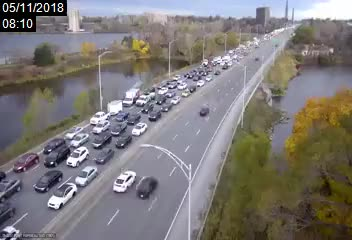congestion: (2, 124, 122, 239), (70, 87, 173, 147), (142, 64, 217, 100), (195, 46, 243, 73)
personal_car: (48, 182, 77, 209), (35, 171, 62, 193), (113, 170, 137, 193), (13, 153, 41, 172), (44, 146, 69, 167), (75, 164, 98, 186), (136, 177, 157, 200), (66, 147, 90, 167), (1, 177, 22, 199), (43, 136, 65, 154), (1, 196, 16, 220), (91, 133, 113, 148), (1, 226, 23, 240), (88, 110, 111, 123), (95, 149, 116, 163), (92, 119, 110, 134), (66, 125, 84, 139), (115, 133, 131, 148), (69, 134, 89, 146), (132, 122, 148, 136), (135, 93, 150, 106), (148, 108, 161, 123), (110, 123, 127, 134), (140, 101, 154, 114), (126, 112, 138, 125), (114, 110, 127, 122), (155, 96, 168, 105), (160, 103, 170, 113), (199, 107, 209, 117), (178, 80, 187, 90), (167, 81, 178, 89), (170, 96, 181, 104), (165, 91, 175, 99), (143, 87, 155, 93), (171, 74, 181, 81), (187, 71, 195, 79), (181, 89, 189, 97), (158, 87, 167, 94), (205, 74, 212, 82), (196, 79, 204, 86), (188, 85, 196, 92), (193, 74, 200, 81), (184, 71, 189, 77)
truck: (122, 89, 142, 107)
